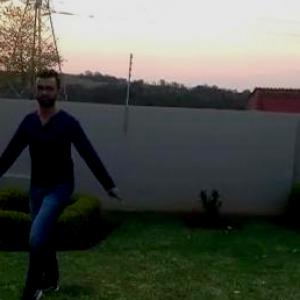land: (0, 67, 128, 296)
